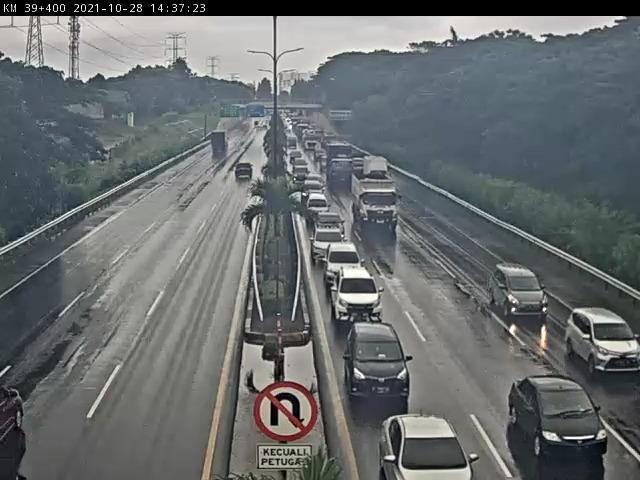car: (509, 373, 611, 461), (377, 409, 478, 480), (345, 326, 413, 405), (567, 307, 640, 377), (487, 263, 552, 320), (331, 270, 388, 325), (324, 240, 363, 288), (312, 225, 346, 266), (315, 212, 347, 240)
truck: (354, 170, 401, 229)
